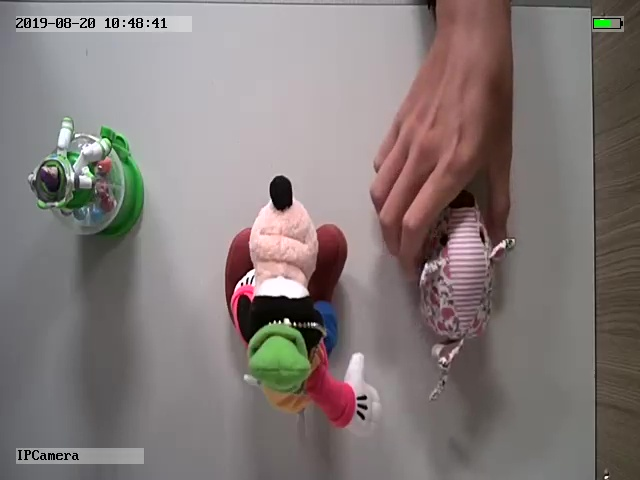buzz: (24, 114, 143, 240)
goofy: (222, 174, 383, 438)
pig: (417, 189, 519, 405)
